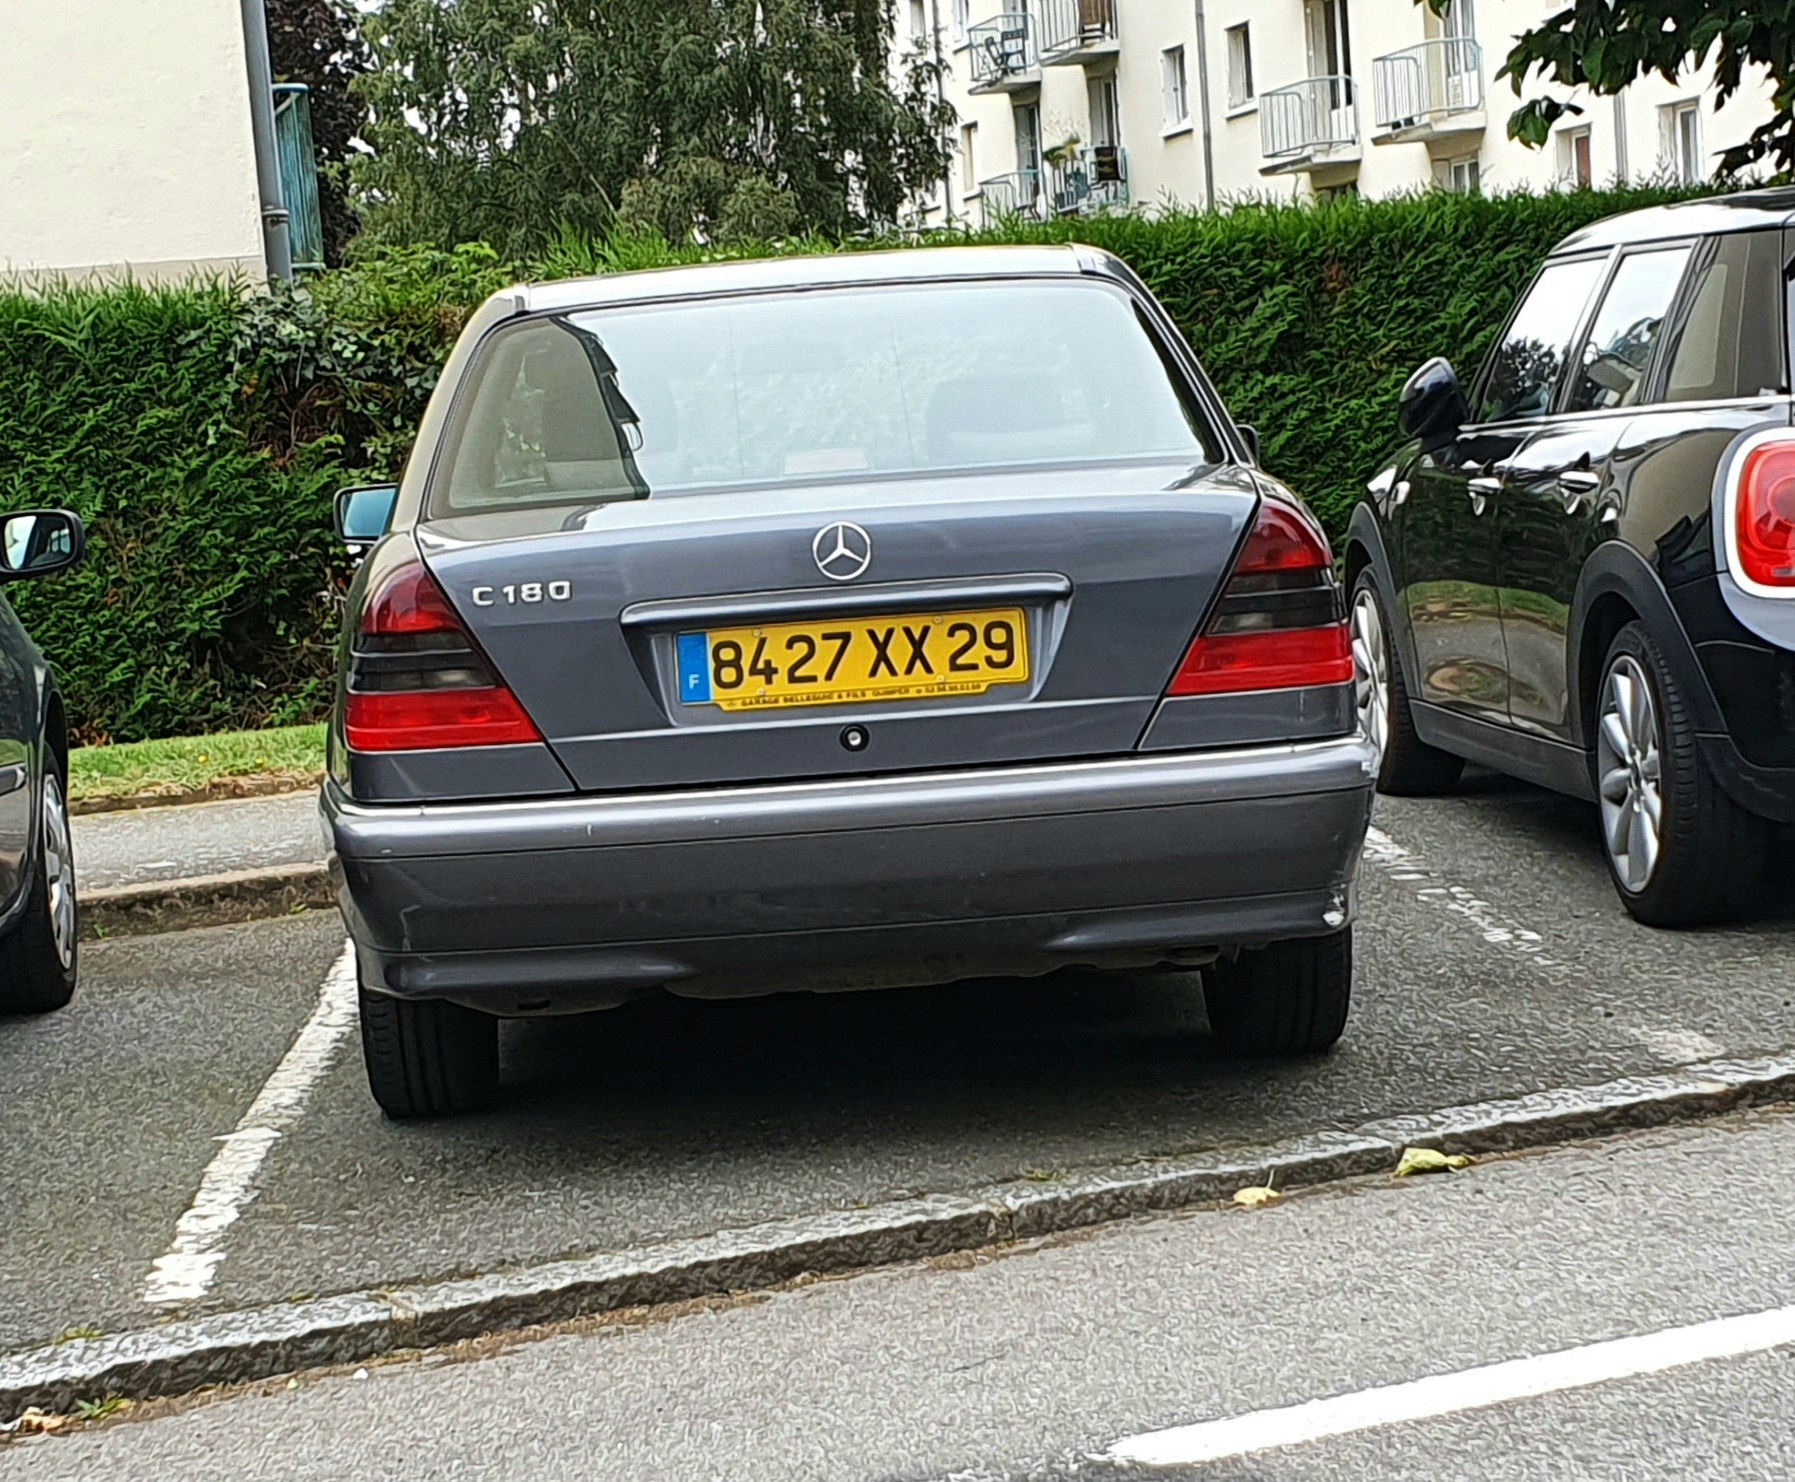licence plate: (668, 600, 1030, 712)
